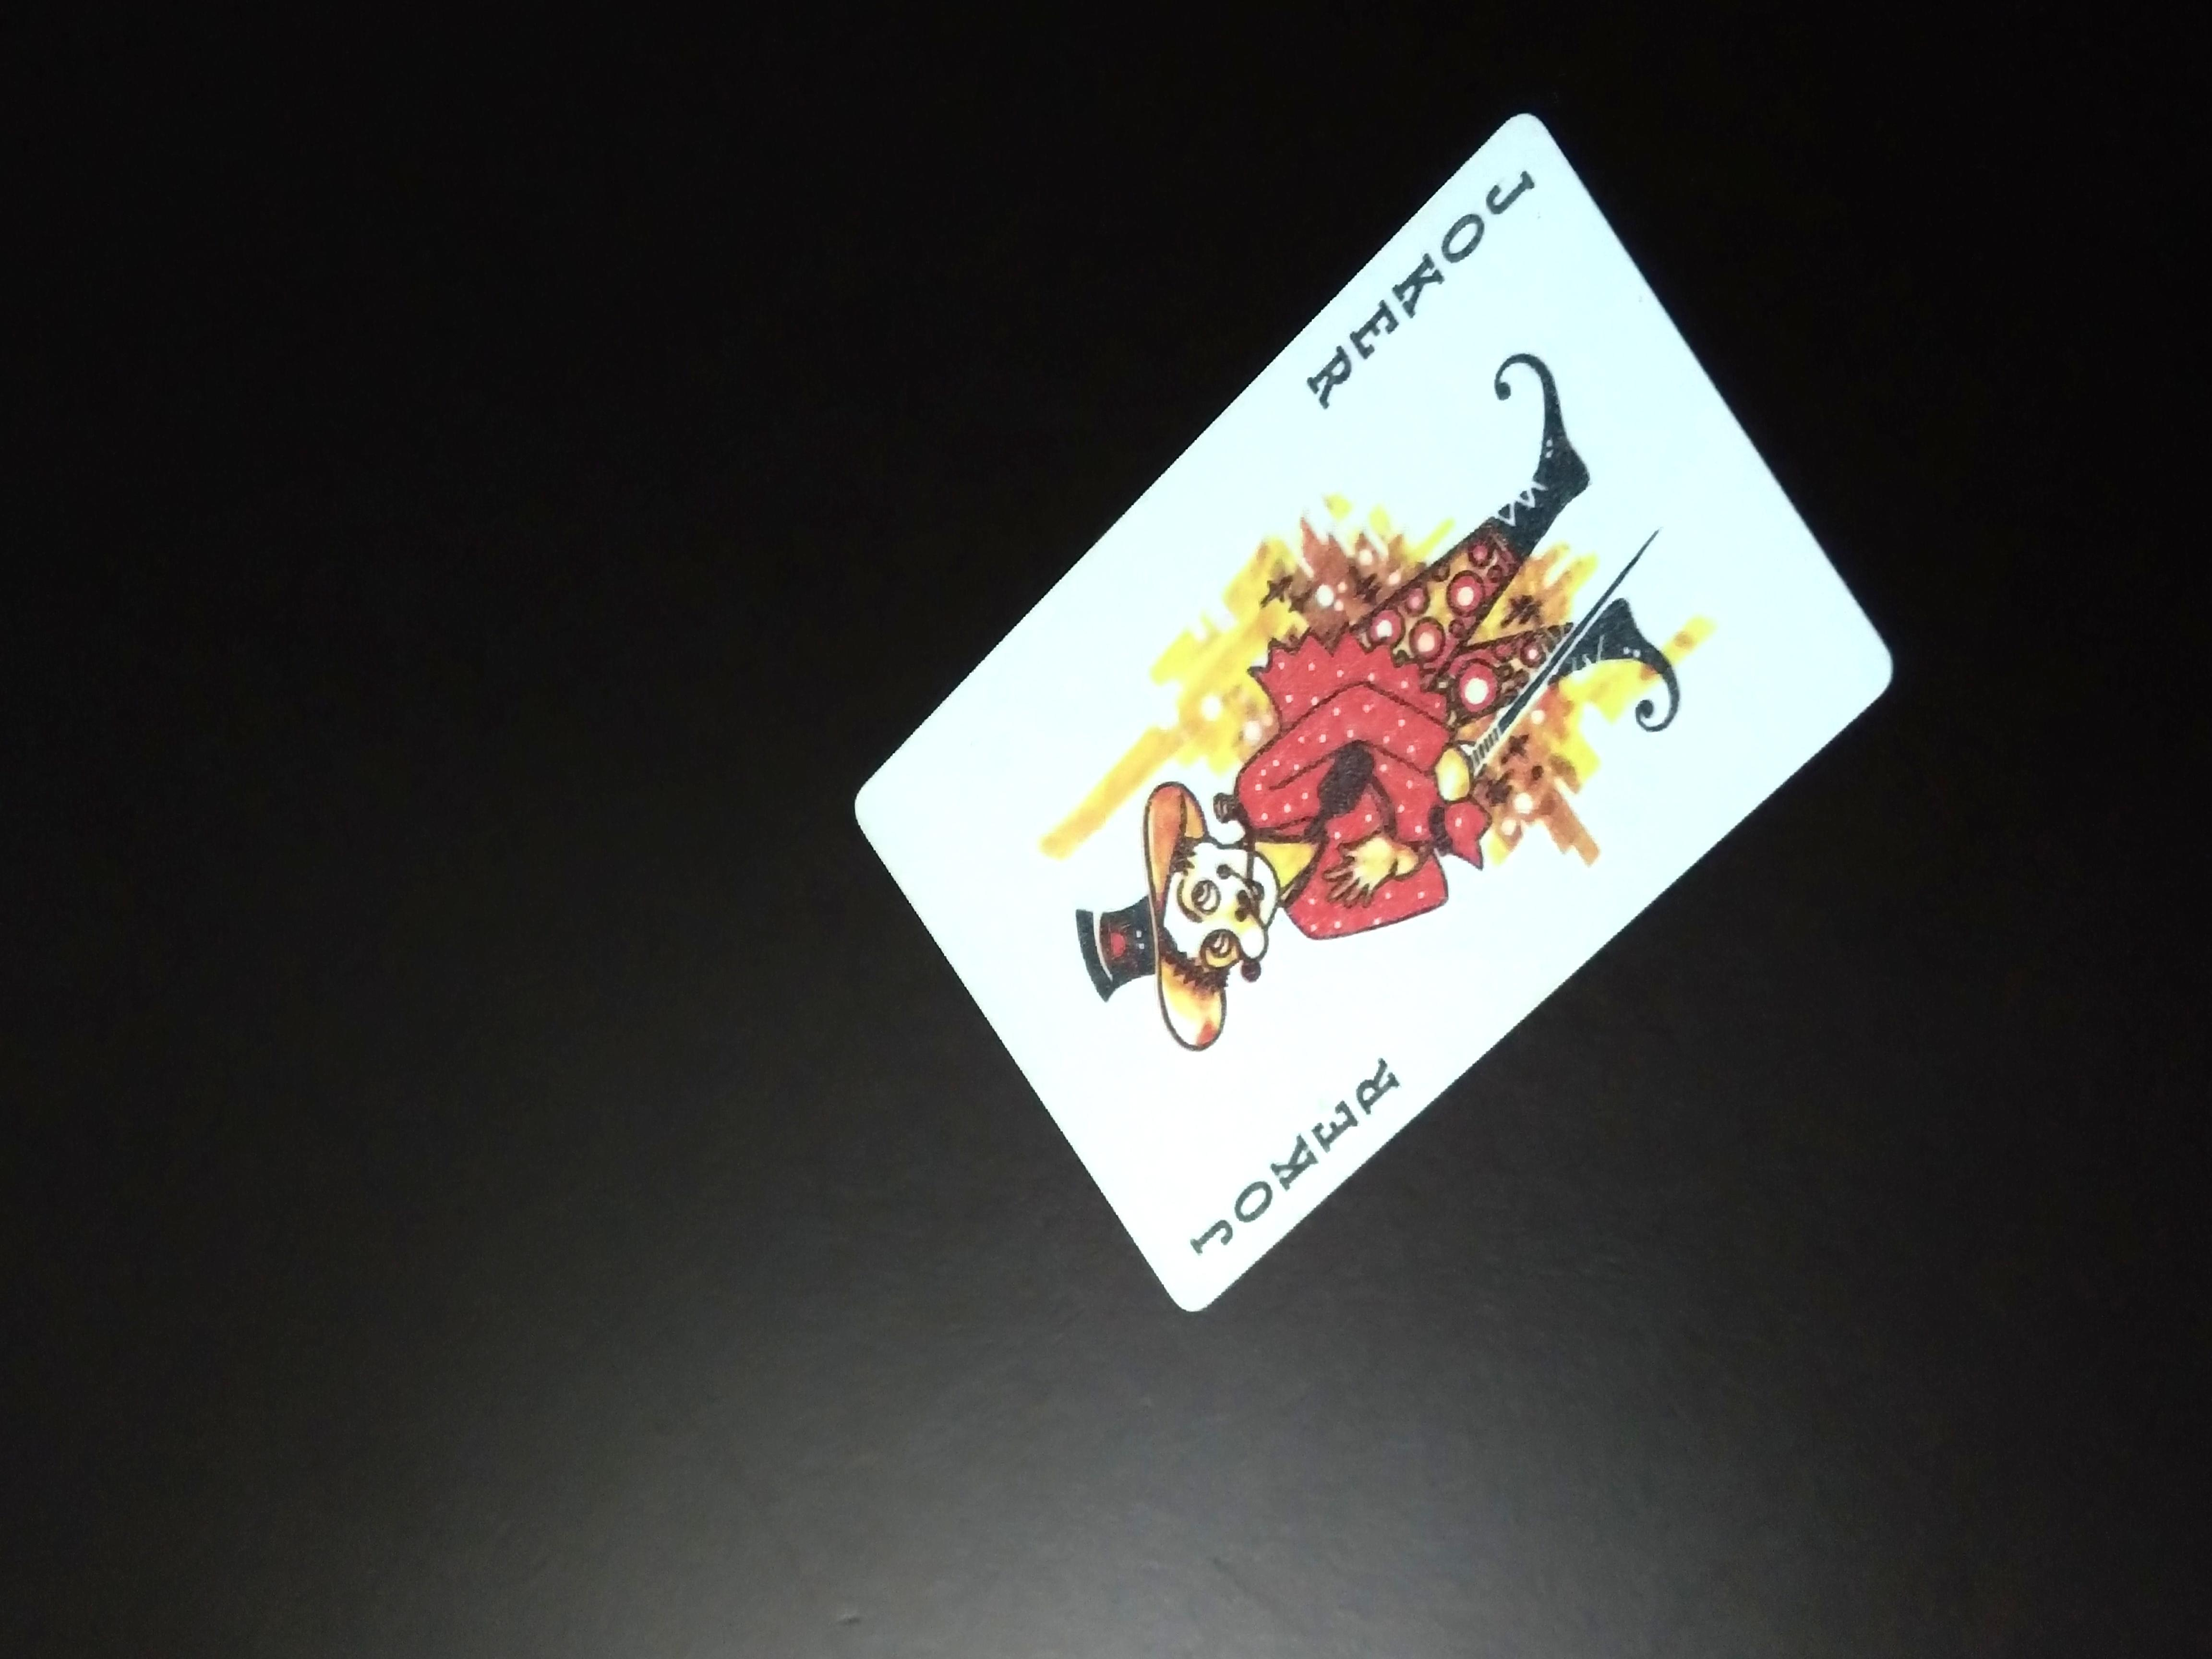JOKER: (1292, 160, 1536, 425)
